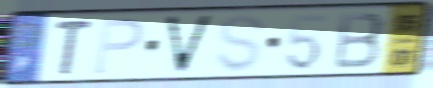5: (284, 12, 330, 72)
B: (332, 10, 387, 71)
P: (92, 16, 146, 76)
S: (213, 12, 267, 74)
T: (53, 18, 95, 77)
V: (162, 14, 216, 76)
